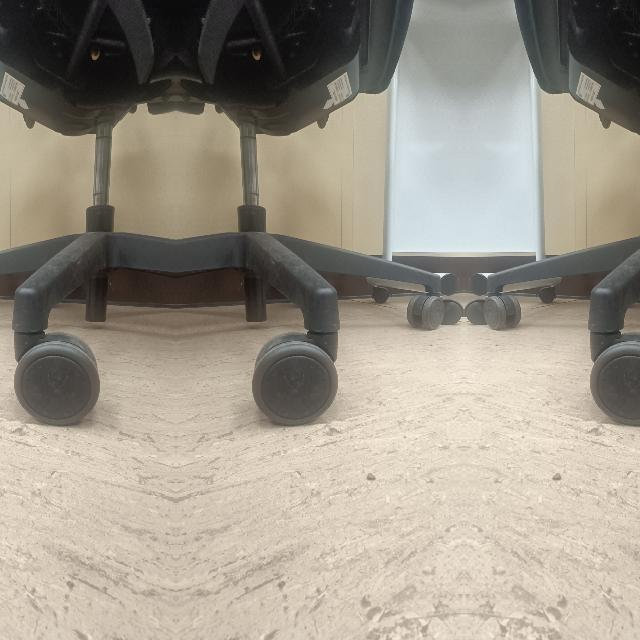obstacle: (174, 170, 463, 424), (463, 170, 640, 424), (0, 170, 175, 424)
